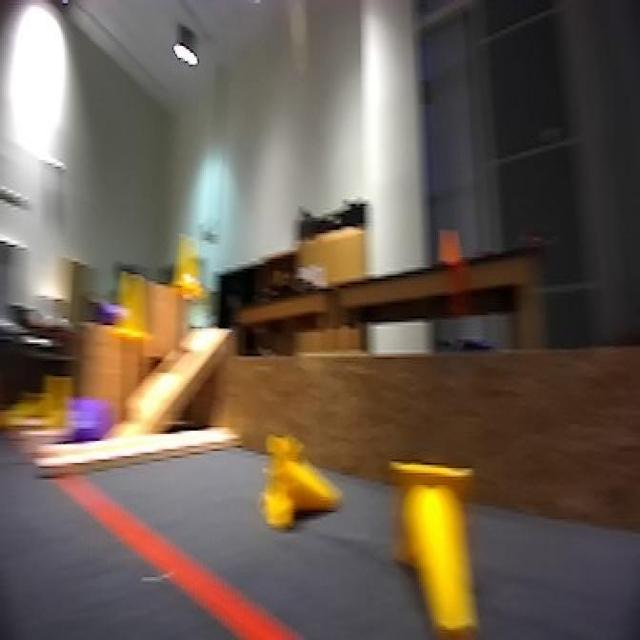frc_cone: (386, 461, 479, 640), (257, 430, 345, 540), (112, 258, 146, 350), (171, 234, 203, 306), (45, 374, 65, 426)
frc_cube: (62, 398, 102, 446), (94, 296, 114, 327)
